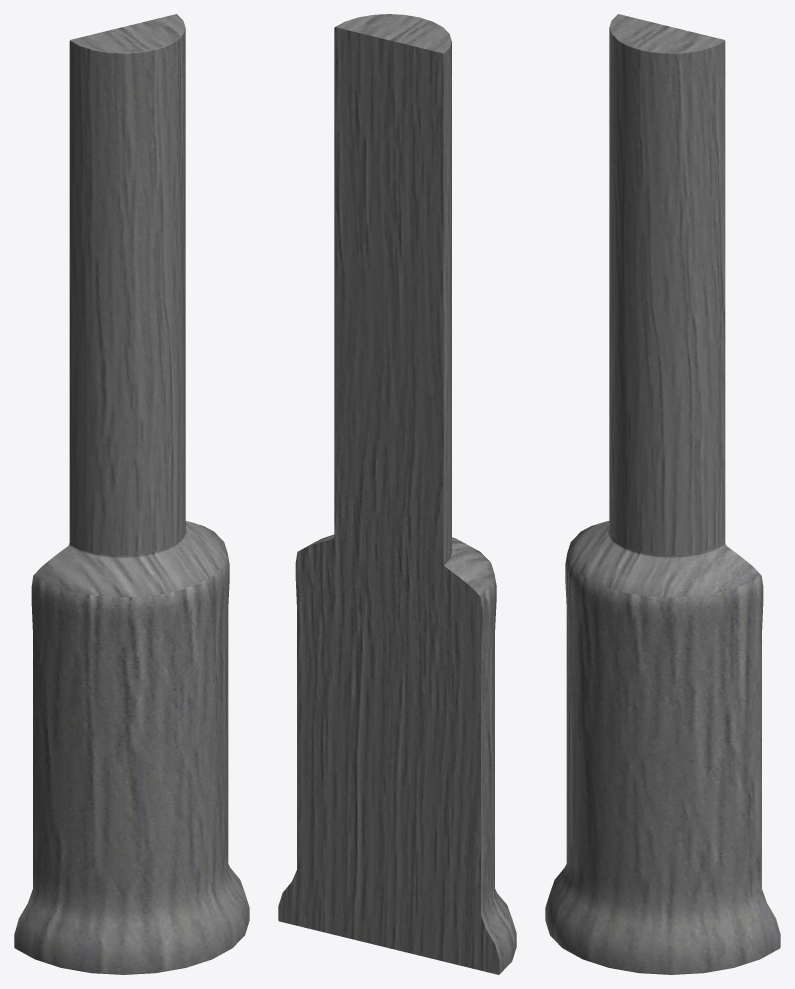
File: ColumnBlock002.obj
3 views of the same model, side by side, from view 1: azimuth 30°, elevation 25°; view 2: azimuth 150°, elevation 25°; view 3: azimuth 330°, elevation 25° (orthographic).
Visible parts, largest first — view 1: pCylinder1; view 2: pCylinder1; view 3: pCylinder1.
Boxes of the visible parts, x1,y1,x2,y2 form: pCylinder1: (14, 14, 249, 974); pCylinder1: (278, 14, 516, 974); pCylinder1: (545, 14, 780, 974).
Size of the model in its own units: 76.52 by 300 by 38.26.
2 materials, 2 textured.
